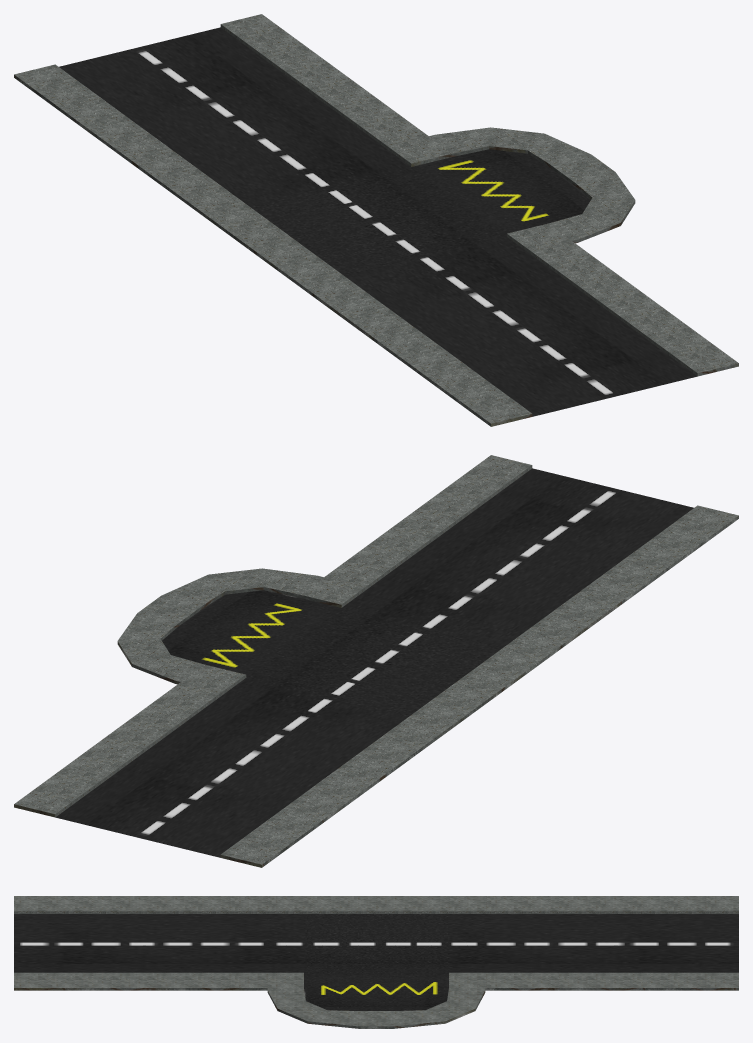
3 renders of one model, top to bottom at view 1: azimuth 30°, elevation 25°; view 2: azimuth 150°, elevation 25°; view 3: azimuth 270°, elevation 25°, orthographic. The views are drawn at different scales.
Parts seen in each view (by area): view 1: park_dashed; view 2: park_dashed; view 3: park_dashed.
Boxes of the visible parts, x1,y1,x2,y2 form: park_dashed: (14,14,738,426); park_dashed: (14,455,738,867); park_dashed: (14,896,738,1028).
Bounding box in the file's own units: 1700 × 15.01 × 4000.
1 material, 1 textured.
